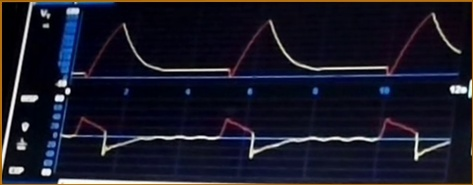Flow: (67, 108, 450, 174)
Leakage Volume: (78, 10, 466, 83)
